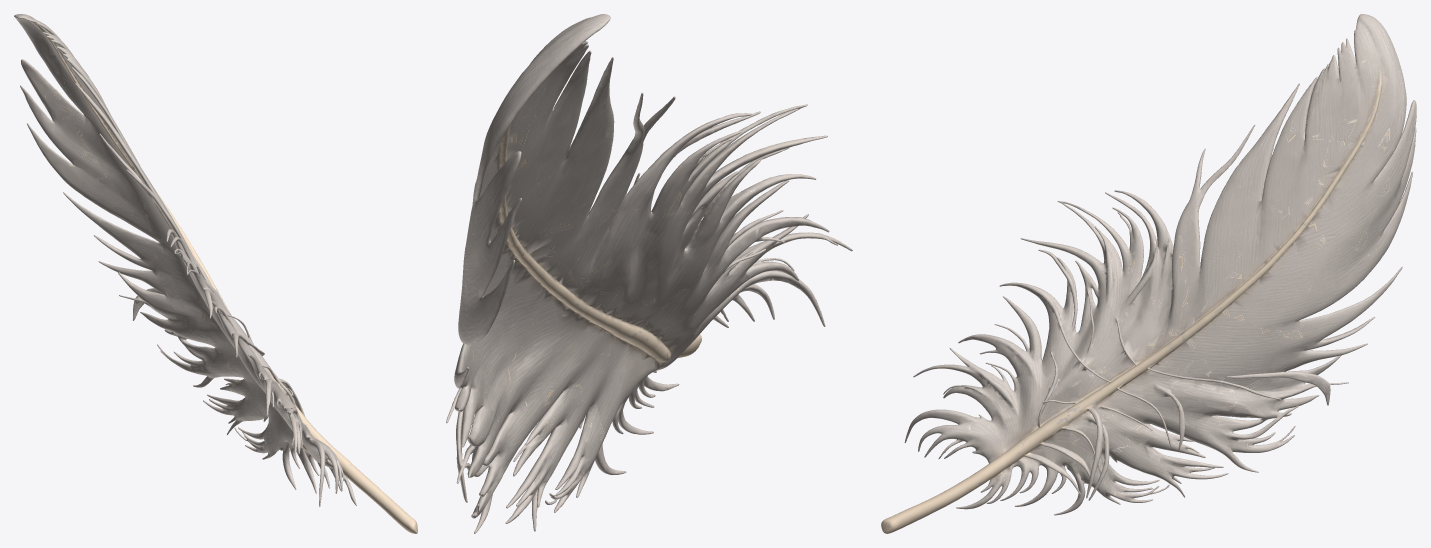
Rendered from feather.glb.
The picture shows the model from 3 angles, left to right: view 1: azimuth 30°, elevation 25°; view 2: azimuth 150°, elevation 25°; view 3: azimuth 270°, elevation 25°; orthographic projection. The views are drawn at different scales.
Parts seen in each view (by area): view 1: tripo_node_c6389bb2-829a-4f45-a69f-05a52ae660e8; view 2: tripo_node_c6389bb2-829a-4f45-a69f-05a52ae660e8; view 3: tripo_node_c6389bb2-829a-4f45-a69f-05a52ae660e8.
Boxes of the visible parts, <box> form: tripo_node_c6389bb2-829a-4f45-a69f-05a52ae660e8: <box>14,14,417,533</box>; tripo_node_c6389bb2-829a-4f45-a69f-05a52ae660e8: <box>446,14,852,533</box>; tripo_node_c6389bb2-829a-4f45-a69f-05a52ae660e8: <box>881,14,1416,533</box>.
Size of the model in its own units: 0.4374 by 0.9321 by 1.05.
Materials: 1 (1 with a texture image).
